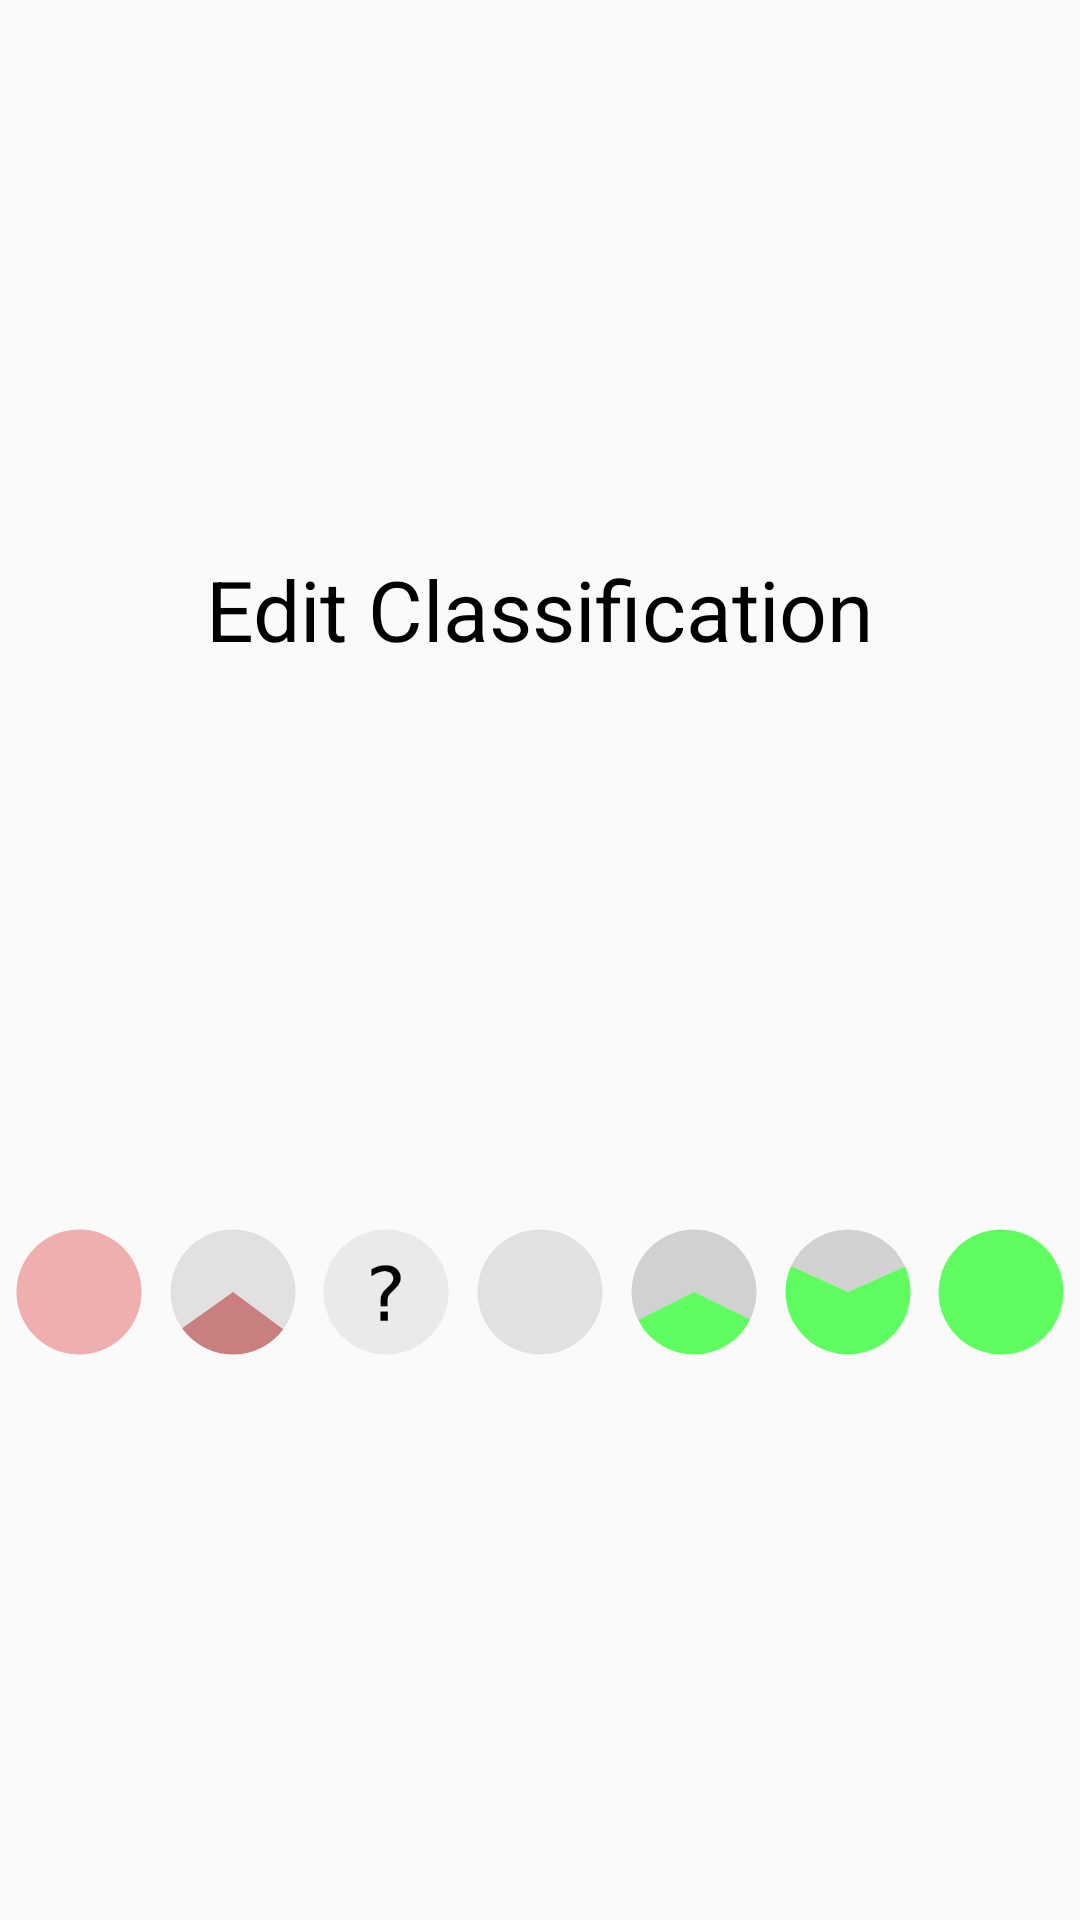

Screen size 1080 × 1920. Icon name, then its center in pixels as (x,y):
favourite good: (848,1292)
favourite okay: (694,1292)
favourite rathernot: (233,1292)
favourite unknown: (386,1292)
